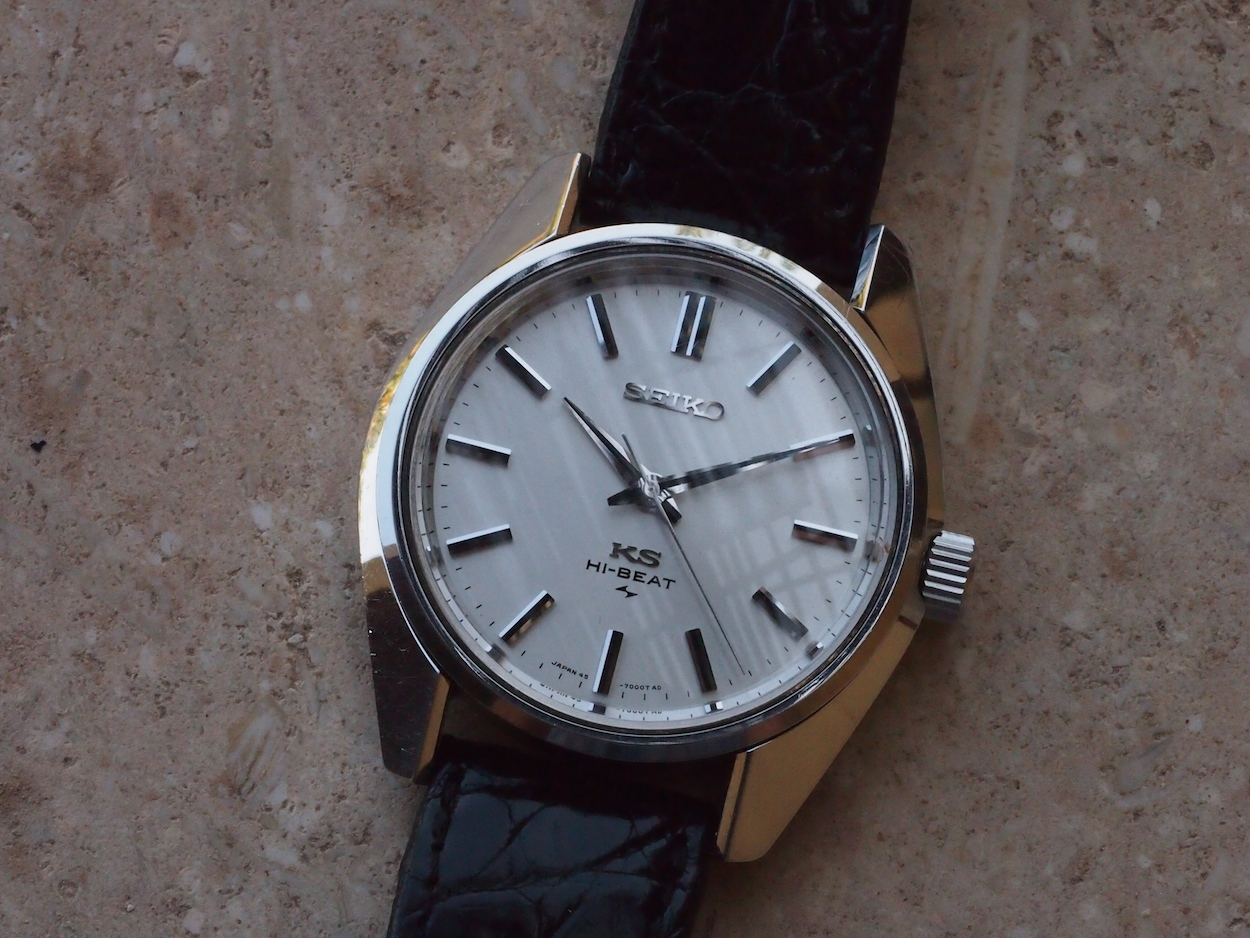clock: (408, 249, 899, 737)
